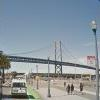Bridge: (8, 45, 96, 76)
